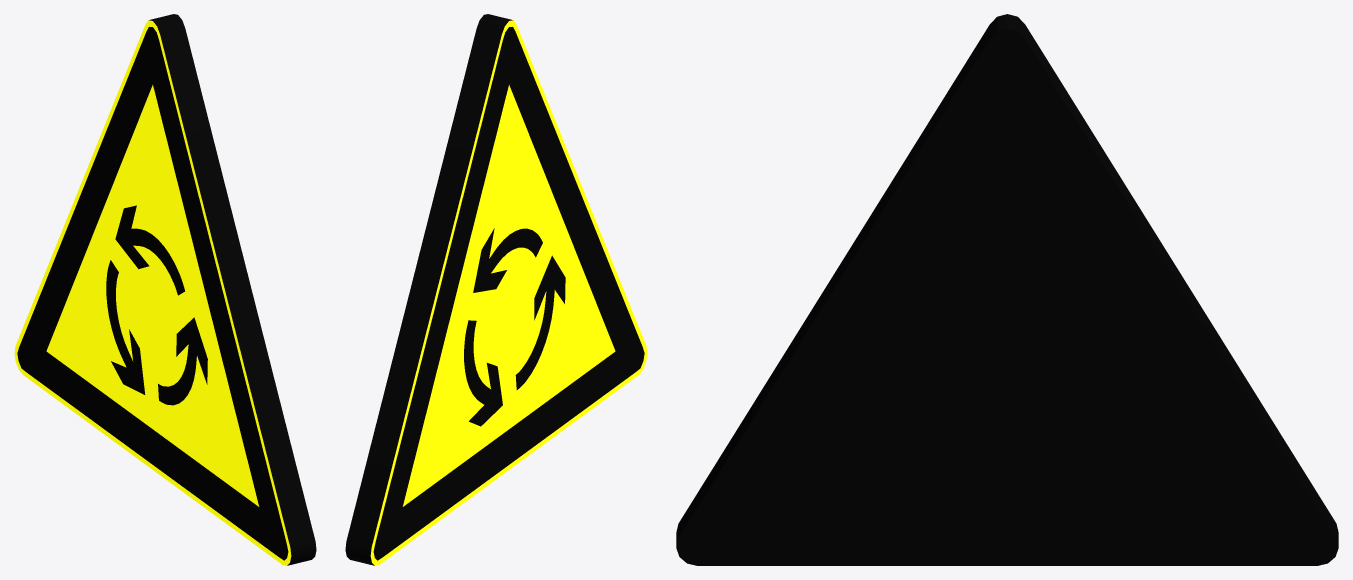
Rendered from Circle_Crossing.glb.
3 renders of one model, left to right at view 1: azimuth 30°, elevation 25°; view 2: azimuth 150°, elevation 25°; view 3: azimuth 270°, elevation 25°, orthographic. The views are drawn at different scales.
Parts seen in each view (by area): view 1: Circle_Crossing; view 2: Circle_Crossing; view 3: Circle_Crossing.
Boxes of the visible parts, box(x1,y1,x2,y2) form: Circle_Crossing: box(14, 14, 316, 565); Circle_Crossing: box(345, 14, 647, 565); Circle_Crossing: box(676, 14, 1338, 565).
Bounding box in the file's own units: 0.0618 × 1.02 × 1.14.
